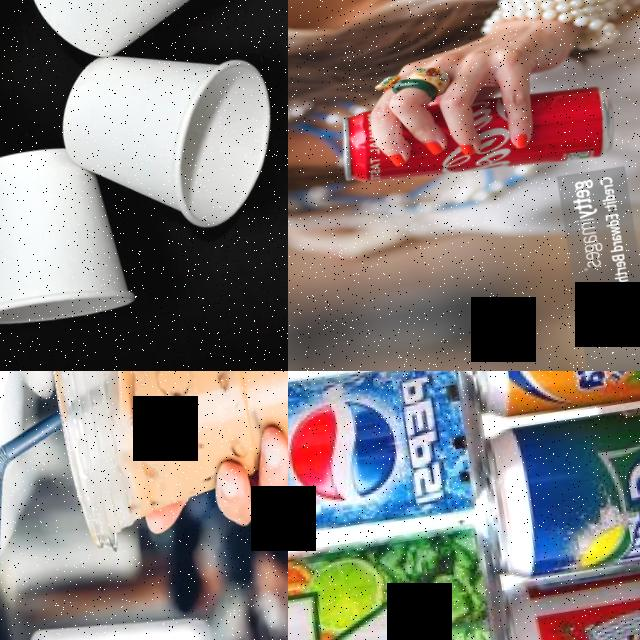can: (288, 371, 496, 551), (335, 72, 622, 198), (477, 382, 640, 587), (288, 520, 514, 640), (493, 542, 640, 640)
cup: (47, 28, 288, 249), (33, 371, 288, 557), (0, 133, 141, 337), (12, 0, 254, 67)
